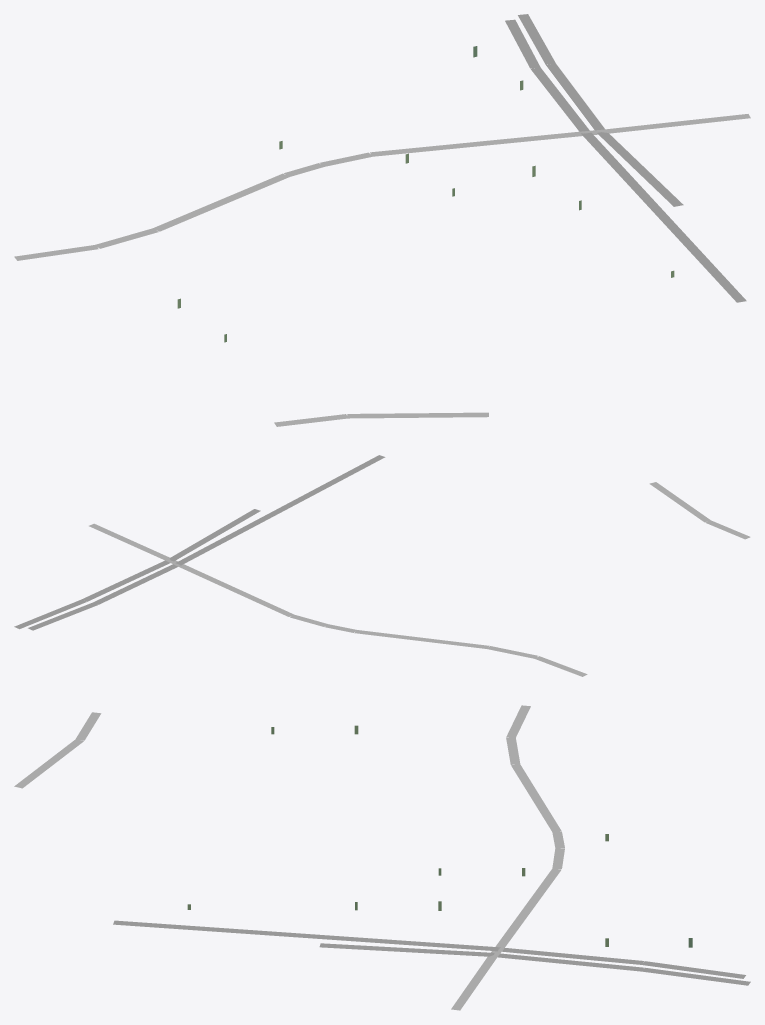
The picture shows the model from 3 angles, top to bottom: view 1: azimuth 30°, elevation 25°; view 2: azimuth 150°, elevation 25°; view 3: azimuth 270°, elevation 25°; orthographic projection. The views are drawn at different scales.
Size of the model in its own units: 522 by 9.39 by 529.
